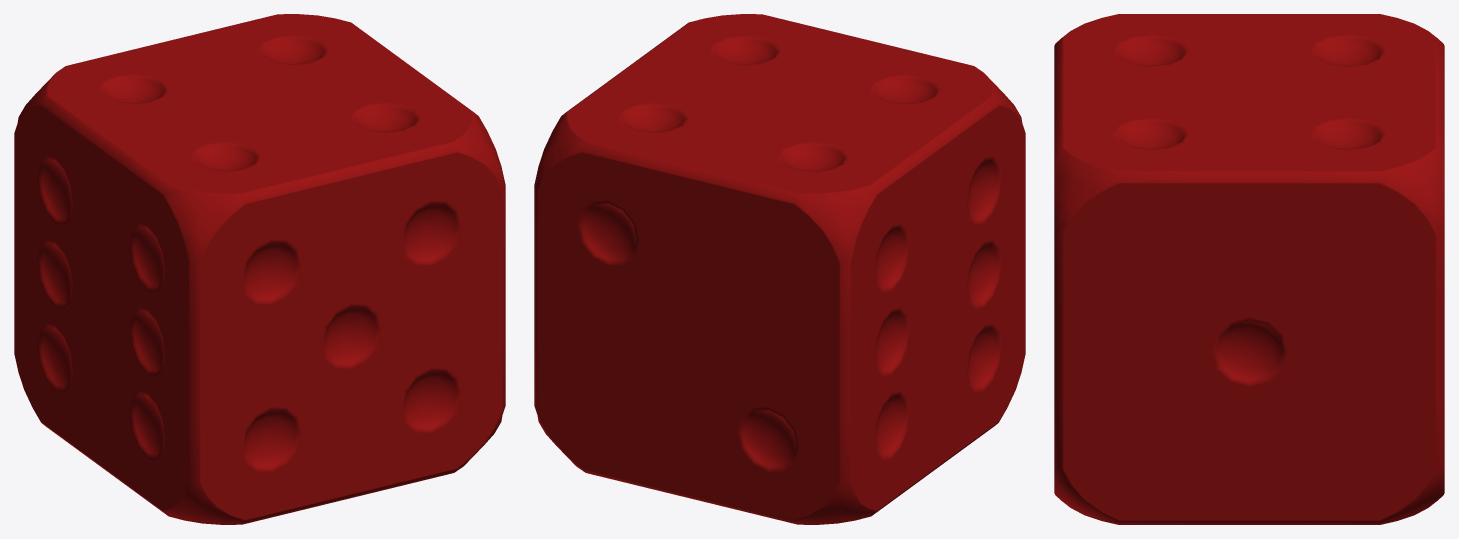
Rendered from dice.DAE.
The picture shows the model from 3 angles, left to right: view 1: azimuth 30°, elevation 25°; view 2: azimuth 150°, elevation 25°; view 3: azimuth 270°, elevation 25°; orthographic projection. The views are drawn at different scales.
Visible parts, largest first — view 1: Box002; view 2: Box002; view 3: Box002.
Boxes of the visible parts, x1,y1,x2,y2 form: Box002: [14, 14, 505, 524]; Box002: [534, 14, 1025, 524]; Box002: [1054, 14, 1444, 524].
Size of the model in its own units: 39.37 by 39.37 by 39.37.
